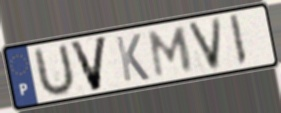I: (227, 12, 250, 69)
K: (113, 32, 151, 84)
M: (148, 24, 195, 80)
U: (32, 41, 76, 100)
V: (67, 34, 110, 94), (185, 15, 224, 73)
